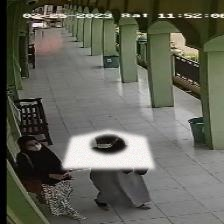Mukena: (62, 129, 154, 169)
